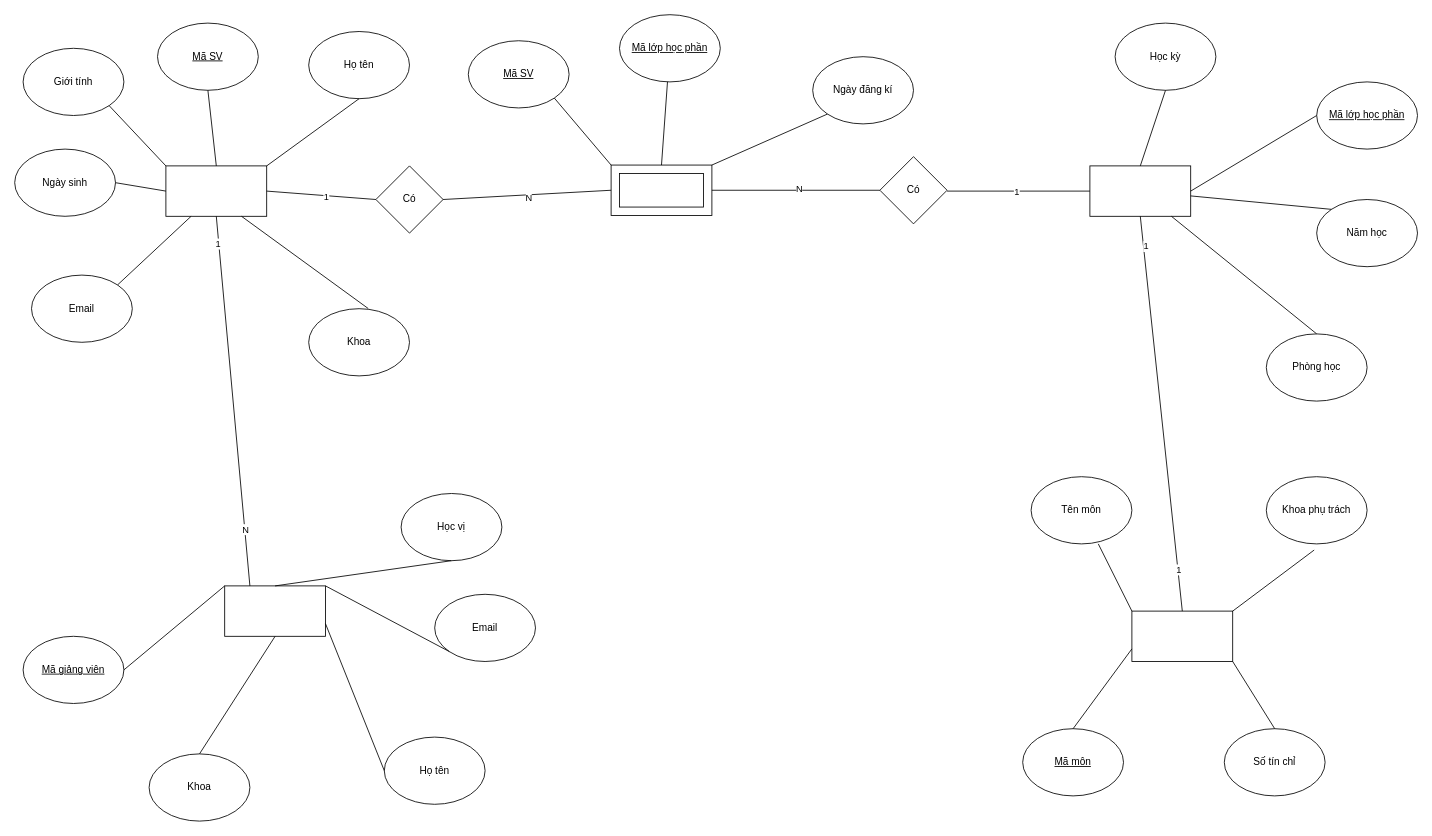
This 1432x836 diagram has some shape labels left out. The box of each missing label's shape, as (x1, y1, x2, y2) in pixels:
Giảng viên: (224, 585, 326, 636)
Lớp học phần: (1089, 165, 1191, 216)
Môn học: (1131, 610, 1233, 662)
Sinh Viên: (165, 165, 267, 216)
Đăng kí: (619, 173, 704, 207)
